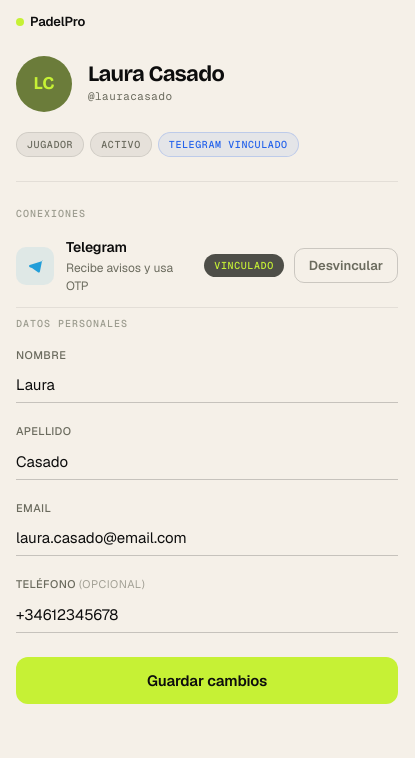
Test: MiPerfilPage · Conexiones Telegram (auth-otp-telegram 7.1) › MT-2 — vinculado: "Desvincular" limpia la vinculación
Expected: the text "Vinculado" is shown, [204, 254, 284, 277]
Click the button "Desvincular".
click(346, 266)  # box [294, 248, 398, 283]
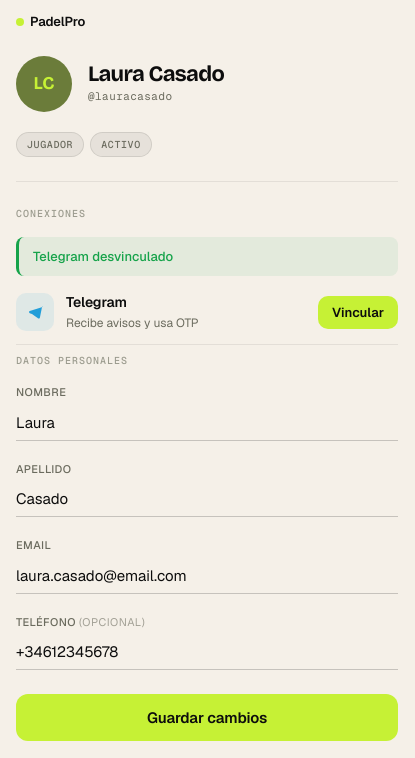
Expected: the button "Vincular" is shown, [318, 296, 398, 328]
Now the text "Telegram desvinculado" is shown, box [16, 236, 398, 276]
